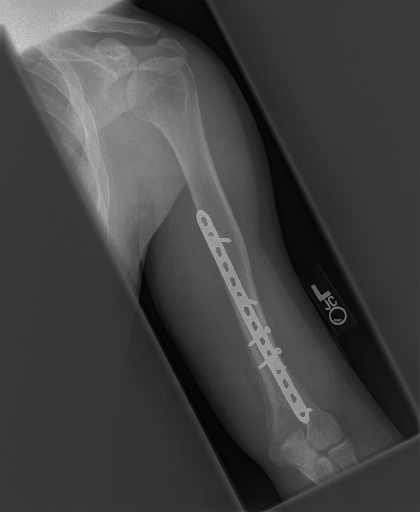implant: (196, 206, 312, 424)
